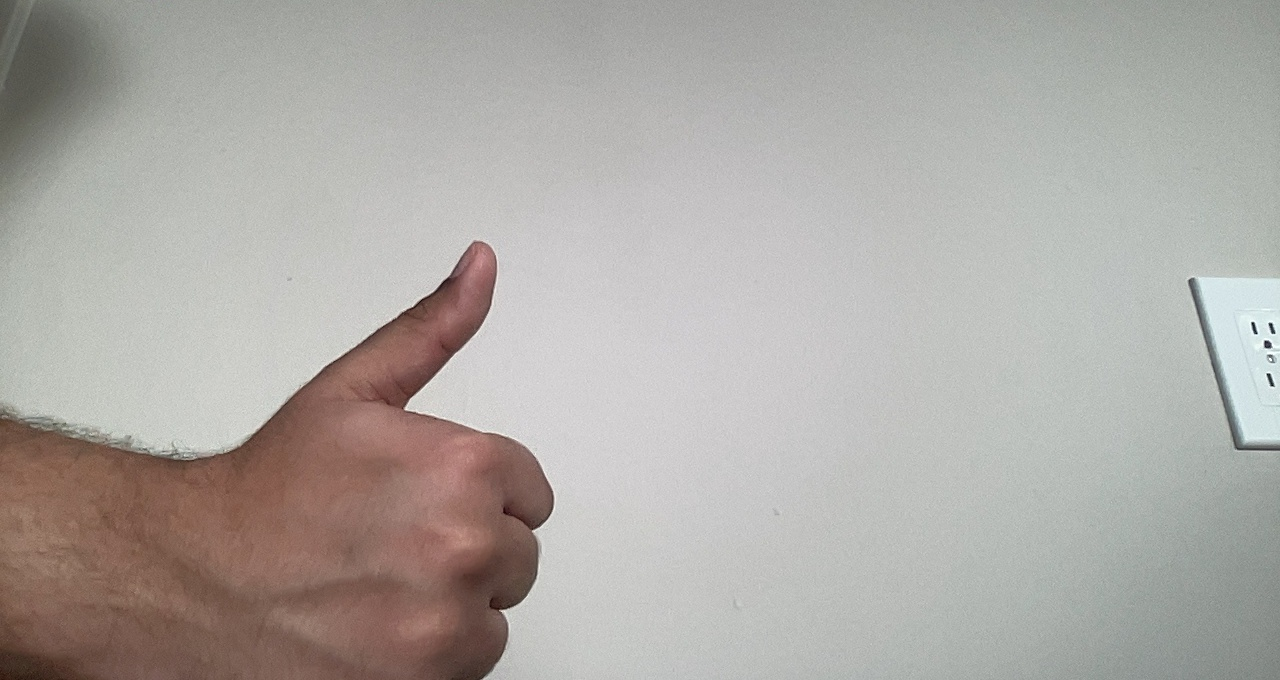thumbsup: (241, 230, 561, 680)
